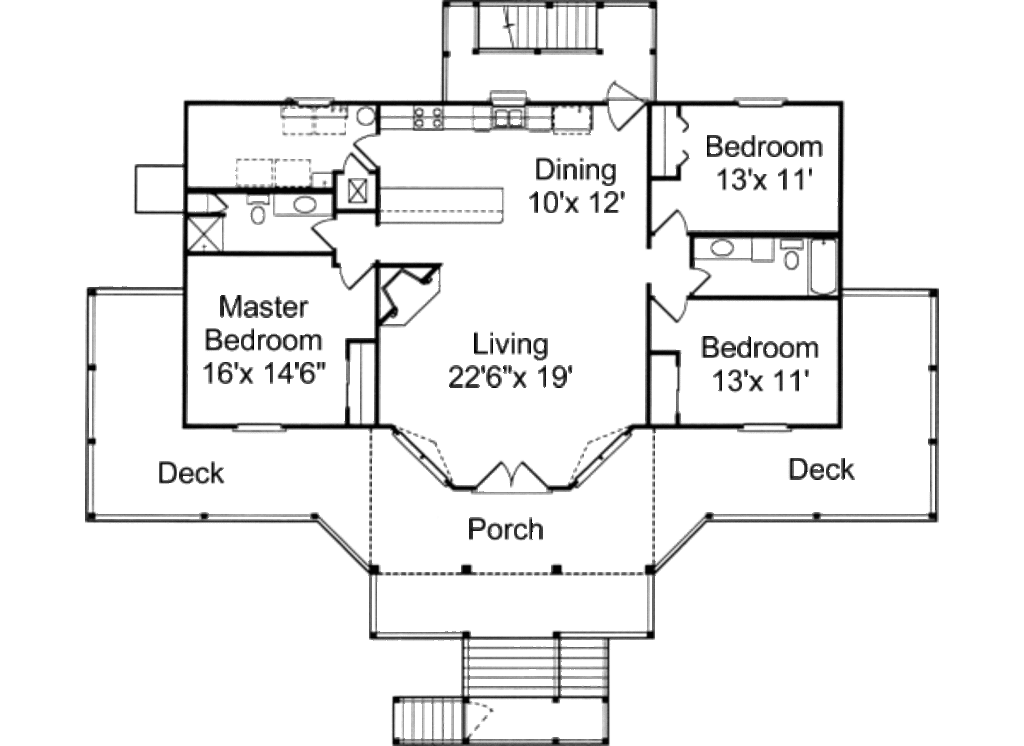door: (472, 460, 550, 493), (652, 288, 690, 326), (607, 100, 649, 134), (355, 129, 382, 172), (338, 260, 375, 289), (656, 212, 689, 244), (314, 213, 336, 247), (344, 151, 372, 172), (694, 264, 713, 292), (606, 85, 637, 95)
large_sink: (241, 193, 274, 227), (780, 236, 804, 272)
small_sink: (695, 235, 749, 267), (281, 193, 334, 216)
stairs: (464, 635, 606, 700), (473, 4, 602, 54), (397, 697, 461, 742)
tub: (810, 237, 838, 296)
window: (236, 420, 290, 432), (741, 423, 787, 434), (738, 99, 792, 108), (292, 96, 337, 106)
